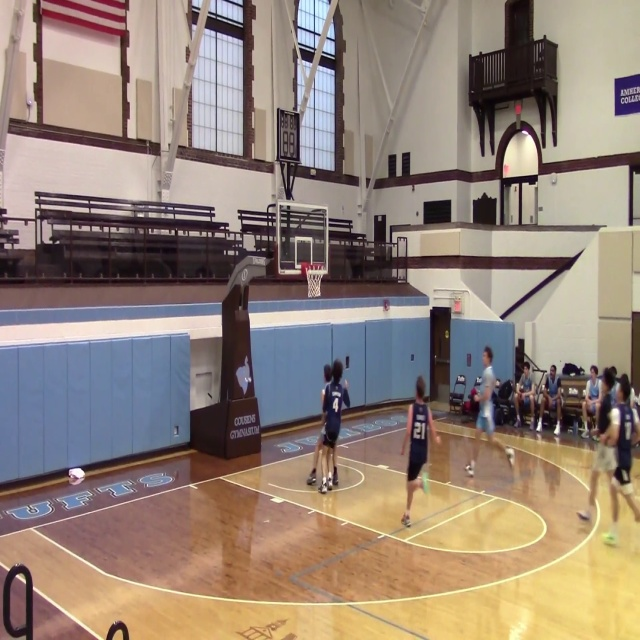Basketball: (68, 467, 85, 485), (68, 468, 85, 480), (332, 359, 343, 377), (324, 364, 332, 381), (505, 447, 514, 457)
